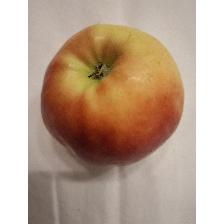Apfel: (39, 22, 187, 168)
